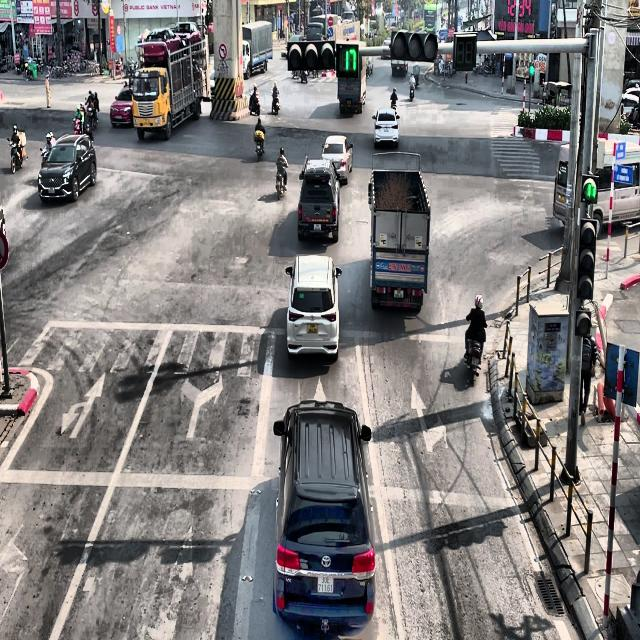lisence_plate: (310, 567, 342, 602), (316, 573, 334, 595), (306, 322, 318, 334), (394, 290, 404, 300), (314, 222, 322, 232)
